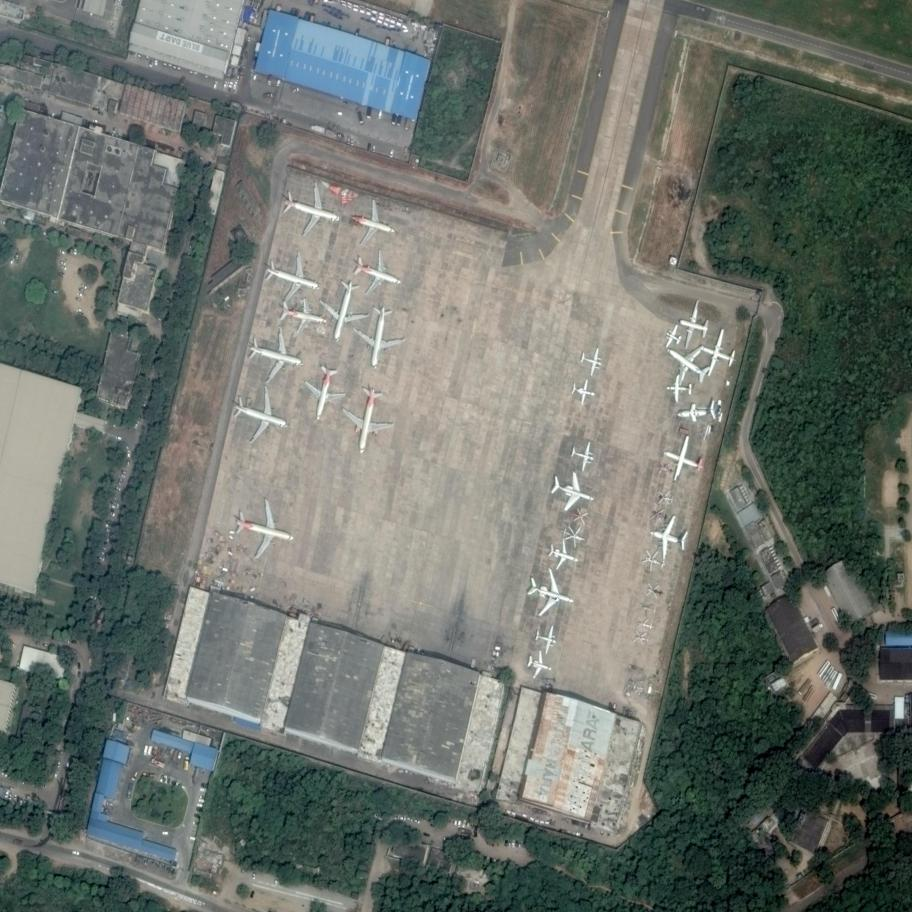large-vehicle: (356, 111, 364, 124), (391, 112, 398, 125), (396, 113, 403, 126), (366, 107, 372, 119), (405, 118, 411, 130)
plane: (224, 488, 301, 565), (227, 374, 298, 455), (648, 325, 724, 398), (272, 173, 349, 243), (240, 319, 309, 394), (314, 269, 377, 349), (257, 243, 331, 310), (349, 296, 409, 374), (298, 355, 351, 431), (522, 559, 582, 626), (655, 426, 711, 490), (344, 243, 406, 300), (545, 458, 601, 520), (271, 290, 335, 344), (641, 506, 694, 568), (345, 193, 400, 252), (694, 321, 742, 383), (669, 294, 716, 357), (542, 534, 583, 579), (674, 396, 725, 430), (520, 643, 557, 685), (565, 434, 601, 475), (530, 618, 563, 657), (576, 340, 606, 380), (567, 373, 599, 410), (657, 318, 687, 355), (663, 372, 694, 405)
small-vehicle: (133, 421, 140, 429), (71, 850, 80, 856), (232, 82, 238, 90), (79, 284, 87, 290), (53, 772, 59, 780), (249, 890, 255, 898), (114, 435, 122, 441), (89, 595, 97, 601), (275, 877, 280, 886), (263, 94, 272, 99), (378, 110, 383, 119), (56, 760, 61, 769), (59, 249, 66, 255), (77, 292, 84, 298), (133, 771, 138, 779), (457, 819, 462, 827), (120, 470, 128, 475), (252, 870, 256, 879), (462, 820, 466, 829), (116, 481, 122, 487), (276, 79, 281, 86), (78, 288, 85, 293), (75, 297, 82, 302), (189, 836, 196, 841), (406, 817, 413, 822), (124, 444, 129, 451), (105, 519, 112, 524), (97, 556, 104, 561), (98, 550, 105, 555), (268, 76, 272, 84), (511, 840, 515, 848), (390, 149, 394, 157), (10, 259, 15, 265), (60, 265, 66, 270), (201, 787, 207, 792), (119, 473, 125, 478), (504, 840, 508, 847), (292, 88, 299, 92), (59, 261, 66, 265), (58, 272, 65, 276), (372, 145, 376, 152), (23, 800, 27, 807), (109, 505, 116, 509), (108, 512, 115, 516), (104, 528, 111, 532), (5, 790, 9, 797), (8, 793, 12, 800), (117, 500, 120, 509), (337, 111, 342, 116), (115, 486, 120, 491), (52, 290, 58, 294), (163, 831, 169, 835), (108, 802, 114, 806), (414, 819, 420, 823), (104, 524, 110, 528), (43, 643, 49, 647), (35, 641, 41, 645), (9, 787, 15, 791), (214, 81, 217, 88), (224, 82, 227, 89), (351, 138, 354, 145), (143, 400, 146, 407), (455, 818, 458, 825), (127, 451, 130, 458), (17, 662, 20, 669), (14, 793, 17, 800), (253, 74, 257, 79), (99, 111, 104, 115), (179, 147, 184, 151), (424, 833, 429, 837), (394, 816, 399, 820), (118, 479, 123, 483), (248, 36, 251, 42), (348, 136, 350, 145), (509, 840, 512, 846), (400, 817, 406, 820), (127, 460, 130, 466), (77, 671, 80, 677), (17, 797, 20, 803), (368, 143, 370, 151), (74, 247, 76, 255), (227, 84, 231, 88), (93, 119, 98, 122), (228, 81, 233, 84), (16, 253, 18, 259), (70, 247, 72, 253), (76, 309, 82, 311), (42, 785, 46, 788), (78, 663, 80, 669), (20, 799, 22, 805)
